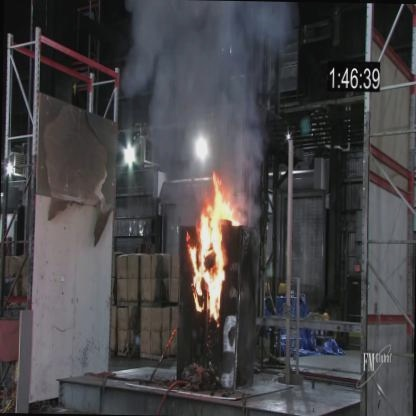fire: (183, 174, 243, 310)
smoke: (134, 3, 259, 166)
